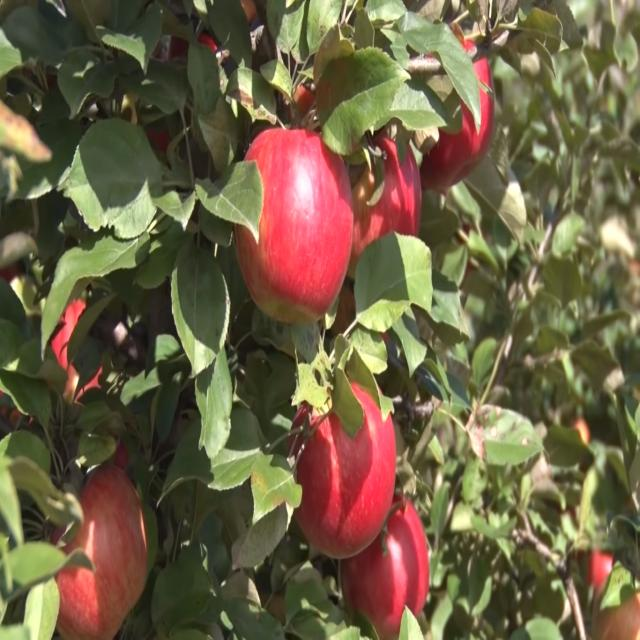100-_ripeness: (239, 121, 351, 322), (36, 465, 151, 639), (288, 381, 397, 558), (343, 498, 432, 634), (428, 17, 492, 183), (356, 115, 424, 264)
